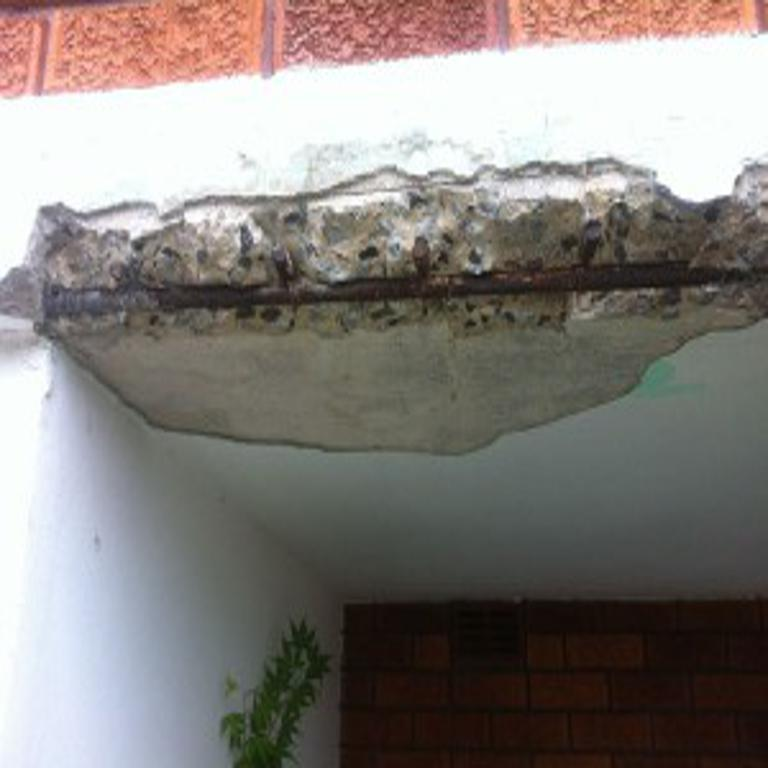exposed_rebar: (44, 261, 768, 318)
spalling: (0, 158, 768, 452)
